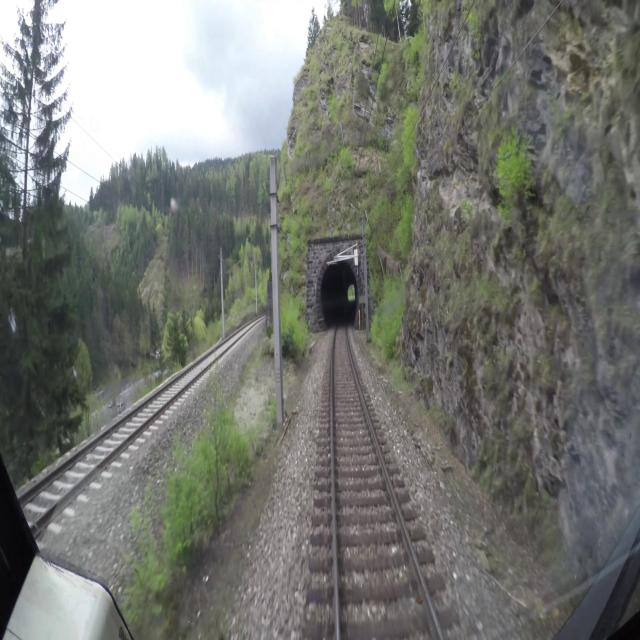rail-track: (21, 329, 244, 520), (334, 322, 438, 639)
